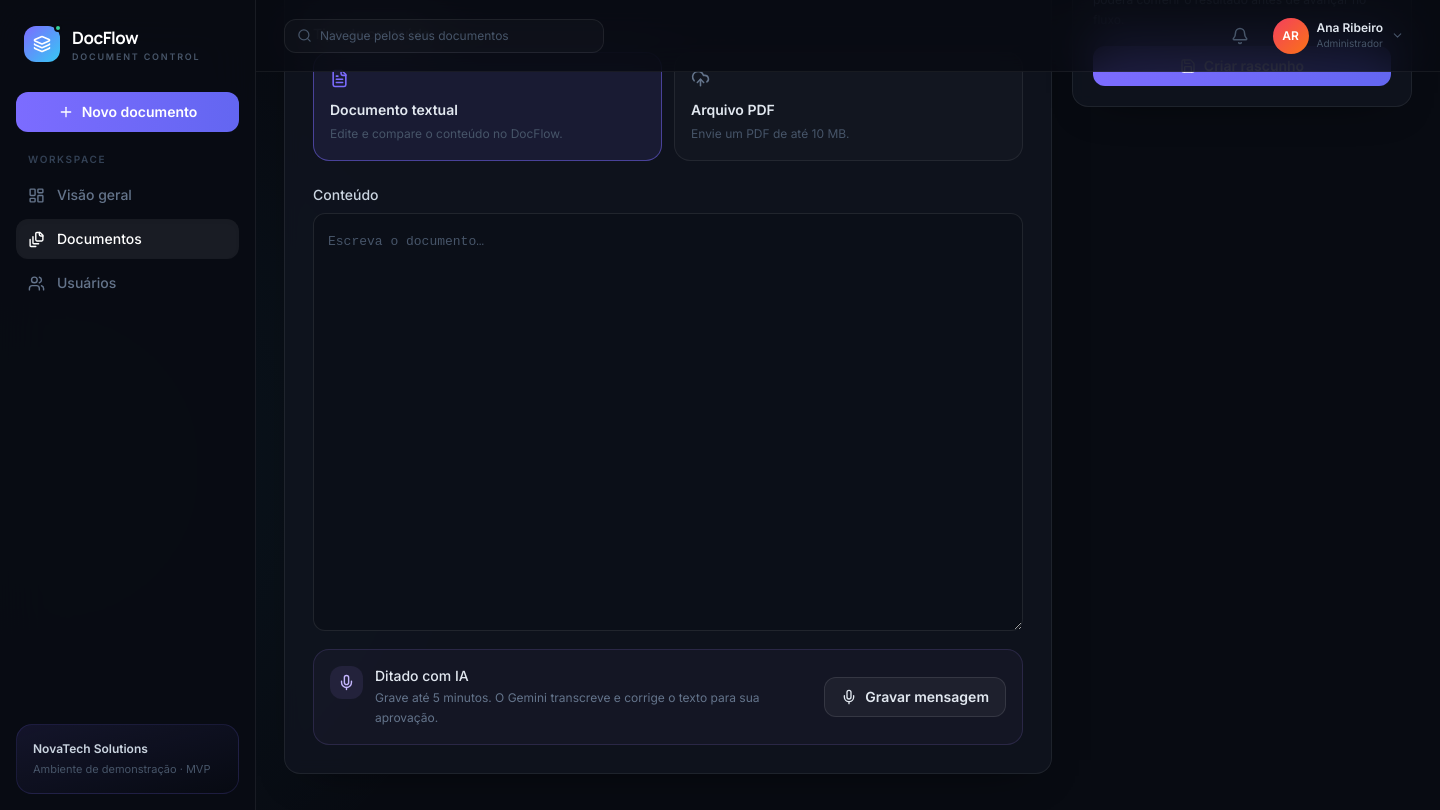
Test case: informa quando o navegador não oferece gravação
(page scrolled)
Click the button "Gravar mensagem" at [915, 697], box x1=824 y1=677 x2=1006 y2=717
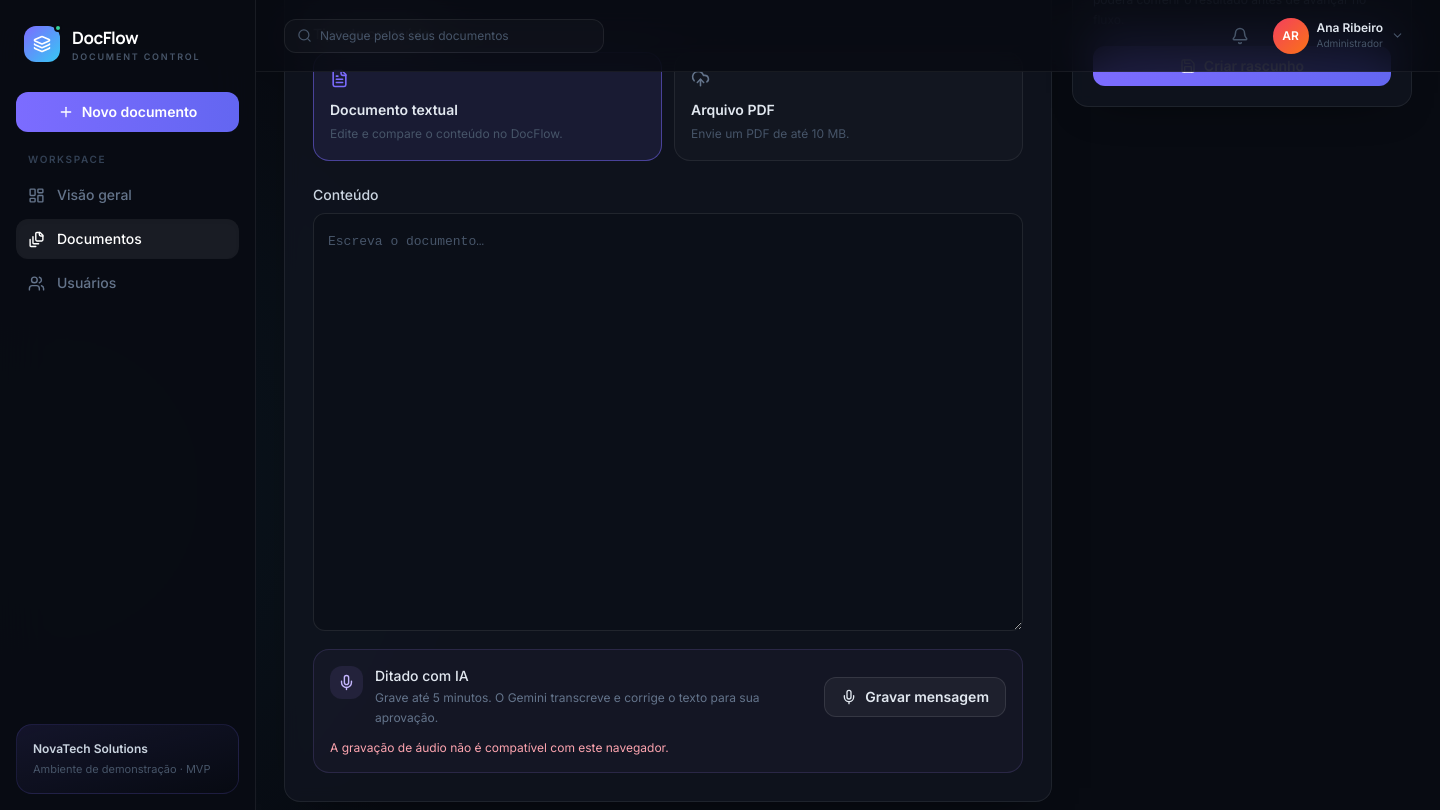
Expected: the message shows "não é compatível", x1=330 y1=740 x2=669 y2=755
